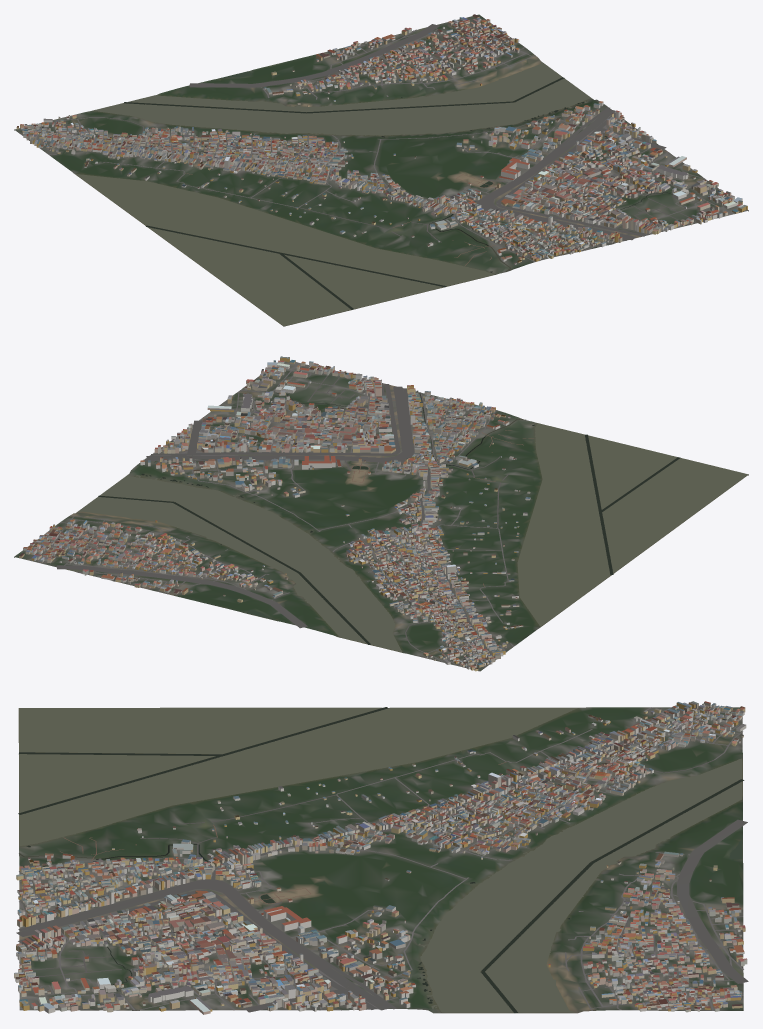
3 renders of one model, top to bottom at view 1: azimuth 30°, elevation 25°; view 2: azimuth 150°, elevation 25°; view 3: azimuth 270°, elevation 25°, orthographic. The views are drawn at different scales.
Visible parts, largest first — view 1: ground, buildings, water, roads; view 2: ground, water, buildings, roads; view 3: ground, water, buildings, roads.
Part boxes in pixels (box(x1,y1,x2,y2)): ground: box(14, 14, 748, 326); buildings: box(16, 14, 747, 264); water: box(76, 30, 704, 325); roads: box(28, 22, 732, 265); ground: box(14, 360, 748, 671); water: box(77, 390, 747, 652); buildings: box(19, 356, 530, 671); roads: box(32, 362, 533, 667); ground: box(18, 707, 743, 1013); water: box(18, 707, 744, 1013); buildings: box(14, 701, 747, 1014); roads: box(16, 707, 748, 1012).
Bounding box in the file's own units: 1428 × 36.02 × 1423.
